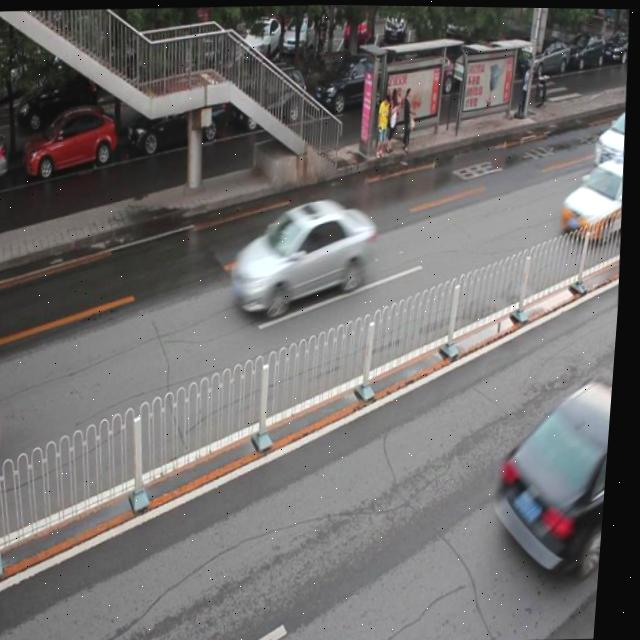car: (492, 377, 618, 572), (227, 194, 381, 317), (127, 89, 231, 155), (24, 109, 122, 175), (310, 49, 398, 118), (558, 155, 628, 241), (232, 68, 312, 131), (591, 104, 629, 170), (0, 127, 14, 194)
